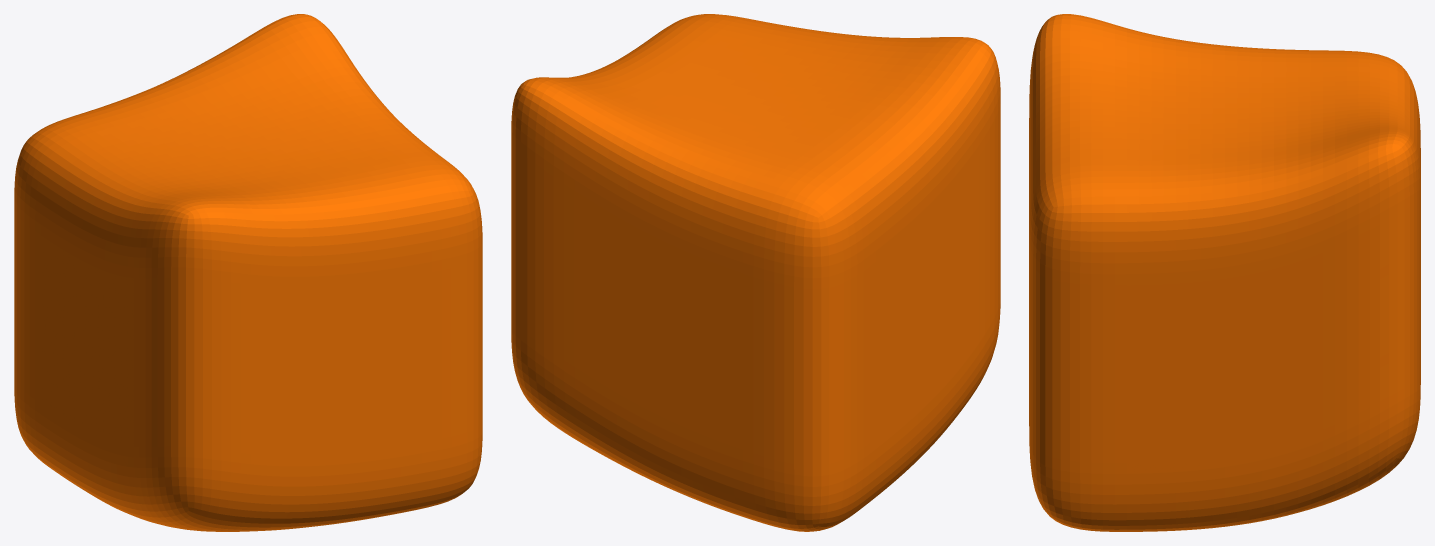
3 renders of one model, left to right at view 1: azimuth 30°, elevation 25°; view 2: azimuth 150°, elevation 25°; view 3: azimuth 270°, elevation 25°, orthographic. The views are drawn at different scales.
Parts seen in each view (by area): view 1: smooth_1_base.014; view 2: smooth_1_base.014; view 3: smooth_1_base.014.
Part boxes in pixels (<box>): smooth_1_base.014: <box>14,14,482,531</box>; smooth_1_base.014: <box>511,14,1000,531</box>; smooth_1_base.014: <box>1029,14,1420,531</box>.
Bounding box in the file's own units: 60 × 67.06 × 60.
